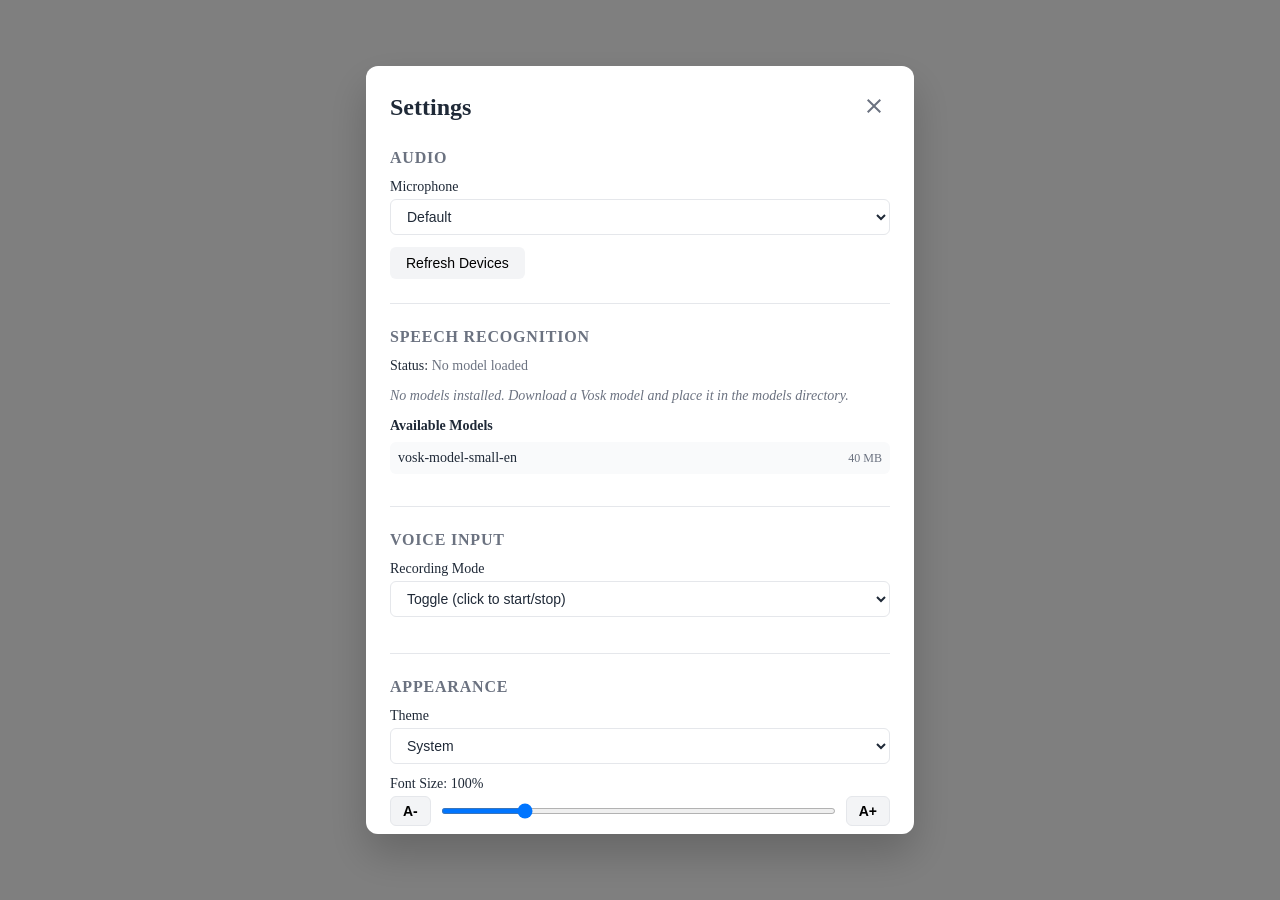
it: Settings interactions › should change recording mode
Select "Push to Talk (hold key)" in the dropdown showing "Toggle (click to start/stop)" at point(640, 599), box [390,581,890,617]
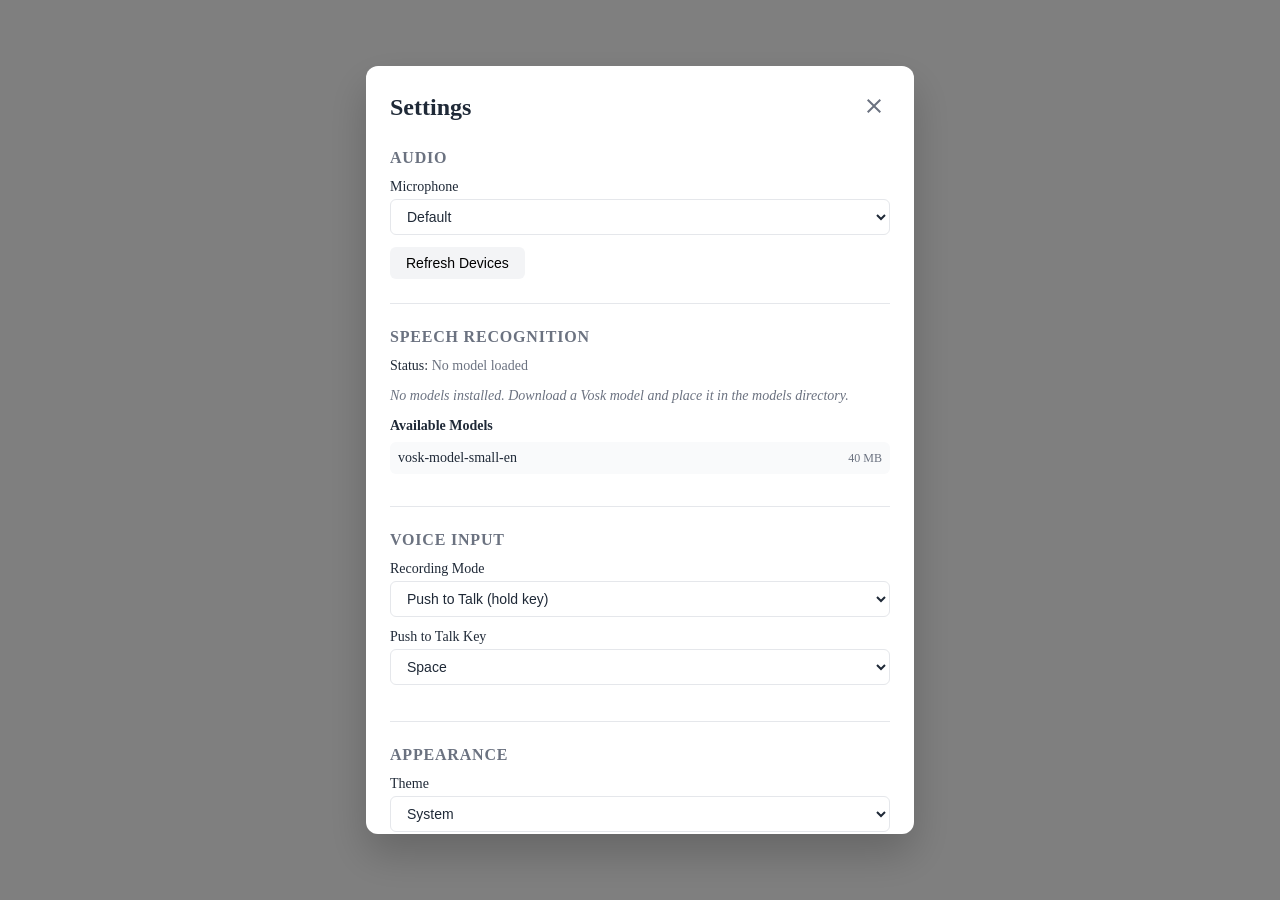
Check: the text "Push to Talk Key" is shown, box [390,629,486,644]
